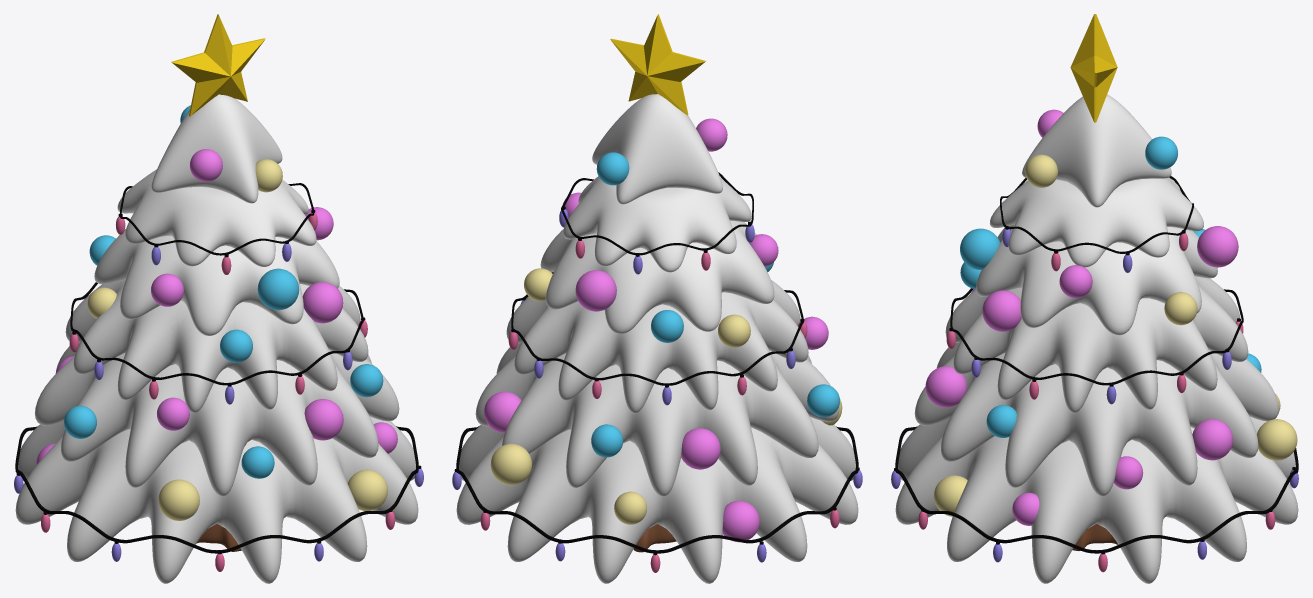
The model's file is Christmas_tree.fbx.
3 renders of one model, left to right at view 1: azimuth 30°, elevation 25°; view 2: azimuth 150°, elevation 25°; view 3: azimuth 270°, elevation 25°, orthographic.
Visible parts, largest first — view 1: Tree1, Tree2, Tree3, Balls, Tree4, Tree5, Tree6, Star, Cable1, Cable2, Cable3, TreeDown; view 2: Tree1, Tree2, Tree3, Balls, Tree4, Tree5, Tree6, Star, Cable1, Cable2, Cable3, TreeDown; view 3: Tree1, Tree2, Tree3, Balls, Tree4, Tree5, Tree6, Star, Cable1, Cable2, Cable3, TreeDown.
Boxes of the visible parts, box(x1,y1,x2,y2) form: Tree1: box(15, 416, 418, 583); Tree2: box(34, 342, 399, 496); Tree3: box(65, 280, 368, 412); Balls: box(36, 105, 397, 520); Tree4: box(94, 229, 339, 335); Tree5: box(117, 169, 316, 266); Tree6: box(151, 94, 282, 203); Star: box(171, 14, 265, 116); Cable1: box(15, 426, 418, 553); Cable2: box(70, 282, 363, 385); Cable3: box(120, 183, 314, 255); TreeDown: box(196, 524, 241, 551); Tree1: box(456, 417, 858, 583); Tree2: box(475, 343, 839, 496); Tree3: box(506, 280, 808, 413); Balls: box(484, 118, 842, 542); Tree4: box(540, 220, 774, 333); Tree5: box(563, 176, 751, 272); Tree6: box(592, 94, 722, 204); Star: box(610, 14, 705, 115); Cable1: box(456, 426, 858, 553); Cable2: box(511, 272, 803, 385); Cable3: box(561, 172, 753, 255); TreeDown: box(633, 524, 676, 552); Tree1: box(895, 416, 1298, 583); Tree2: box(914, 342, 1279, 496); Tree3: box(945, 276, 1248, 413); Balls: box(925, 109, 1297, 525); Tree4: box(976, 225, 1217, 335); Tree5: box(990, 177, 1203, 267); Tree6: box(1022, 94, 1171, 207); Star: box(1070, 14, 1117, 122); Cable1: box(895, 426, 1298, 553); Cable2: box(950, 288, 1243, 385); Cable3: box(1000, 176, 1193, 253); TreeDown: box(1072, 524, 1118, 550).
Size of the model in its own units: 1223 by 1690 by 1209.
